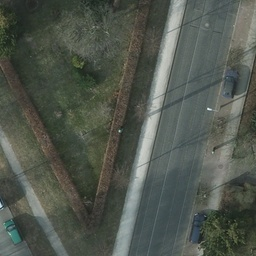car: (4, 219, 21, 246), (190, 210, 203, 245), (224, 65, 237, 97)
